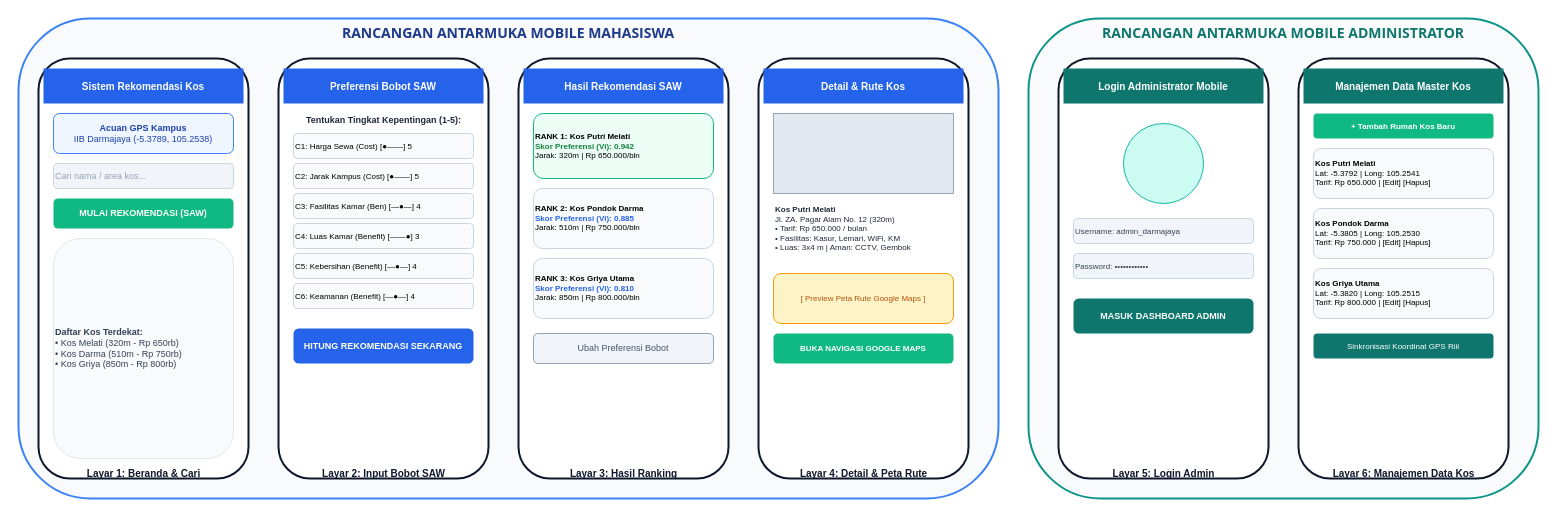
This 1556x516 diagram has some shape labels left out. The centre of each missing label's shape, as x and y in pixels:
"[ Foto Kamar & Bangunan Kos ]" goes at (863,153).
"[ Icon Admin / Kunci ]" goes at (1163,163).
